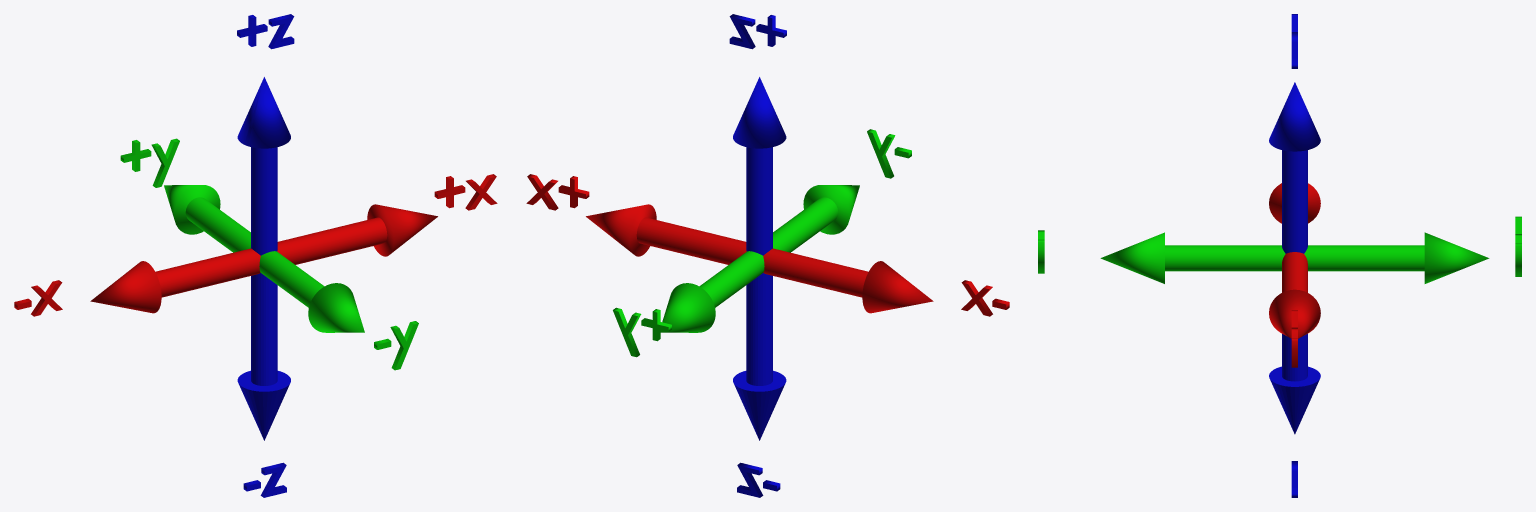
File: test-axes.fbx
The picture shows the model from 3 angles, left to right: view 1: azimuth 30°, elevation 25°; view 2: azimuth 150°, elevation 25°; view 3: azimuth 270°, elevation 25°; orthographic projection. The views are drawn at different scales.
Visible parts, largest first — view 1: Cylinder, Cylinder.002, Cylinder.001, Cylinder.003, Cylinder.004, Cylinder.005, Text.004, Text, Text.003, Text.005, Text.001, Text.002; view 2: Cylinder, Cylinder.002, Cylinder.001, Cylinder.003, Cylinder.005, Cylinder.004, Text.004, Text, Text.003, Text.005, Text.001, Text.002; view 3: Cylinder.005, Cylinder.004, Cylinder, Cylinder.003, Cylinder.001, Cylinder.002.
Boxes of the visible parts, x1,y1,x2,y2 form: Cylinder: (237,77,290,255); Cylinder.002: (90,248,260,313); Cylinder.001: (237,273,290,440); Cylinder.003: (277,204,437,264); Cylinder.004: (259,251,364,332); Cylinder.005: (164,185,250,252); Text.004: (120,138,179,187); Text: (237,14,294,49); Text.003: (434,174,497,210); Text.005: (374,321,418,370); Text.001: (243,462,286,497); Text.002: (14,280,62,316); Cylinder: (733,77,786,255); Cylinder.002: (763,248,933,313); Cylinder.001: (733,273,786,440); Cylinder.003: (586,204,746,264); Cylinder.005: (660,251,764,332); Cylinder.004: (773,185,859,252); Text.004: (613,307,671,357); Text: (729,14,786,49); Text.003: (526,174,589,210); Text.005: (867,129,911,178); Text.001: (737,462,780,497); Text.002: (961,280,1009,316); Cylinder.005: (1304,232,1489,283); Cylinder.004: (1100,232,1285,283); Cylinder: (1269,82,1320,253); Cylinder.003: (1269,252,1320,338); Cylinder.001: (1269,333,1320,434); Cylinder.002: (1269,183,1320,223).
Size of the model in its own units: 827 by 794 by 745.
